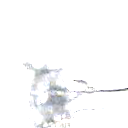crackTip: (67, 82, 128, 102)
